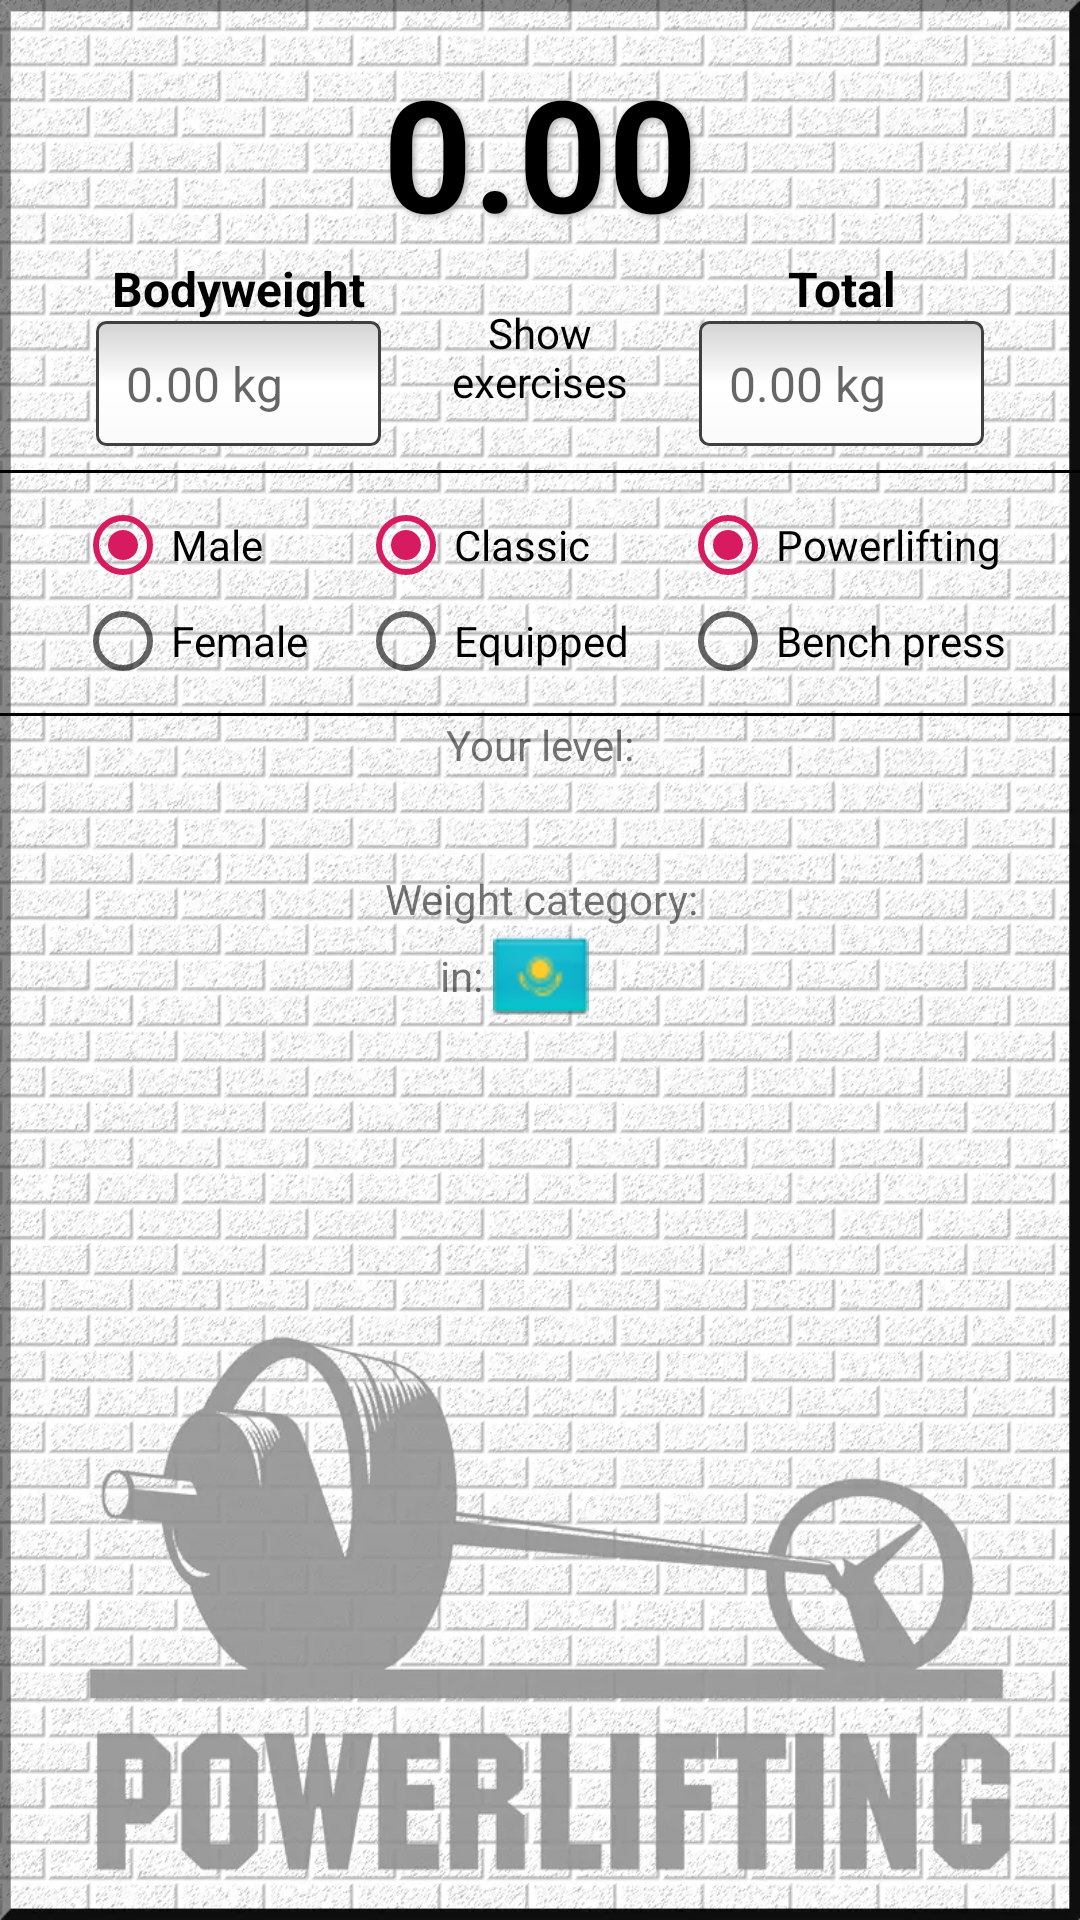

Point at icon controls on the screen. Image size 1080 x 1920, points as (x=x, y=y).
flagofkazakhstan: (x=541, y=975)
